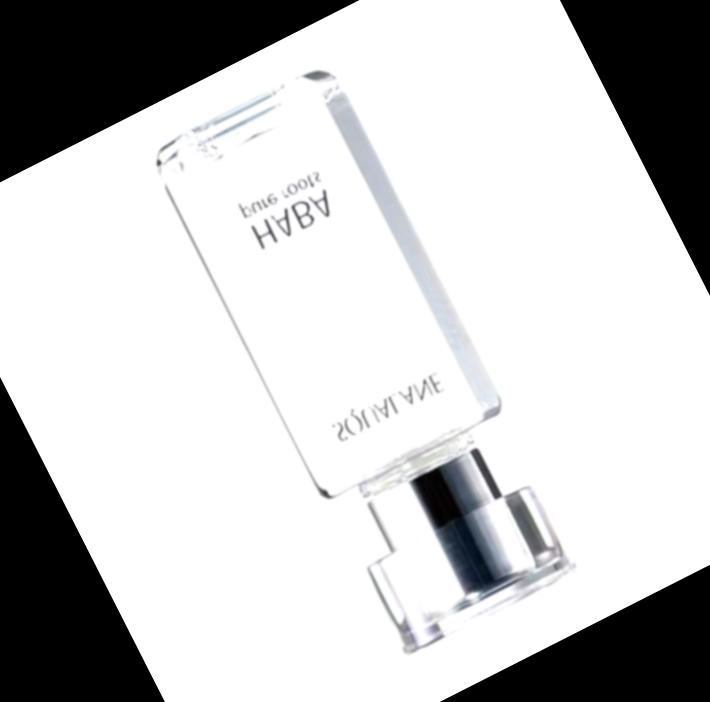cosmetic: (145, 60, 587, 661)
